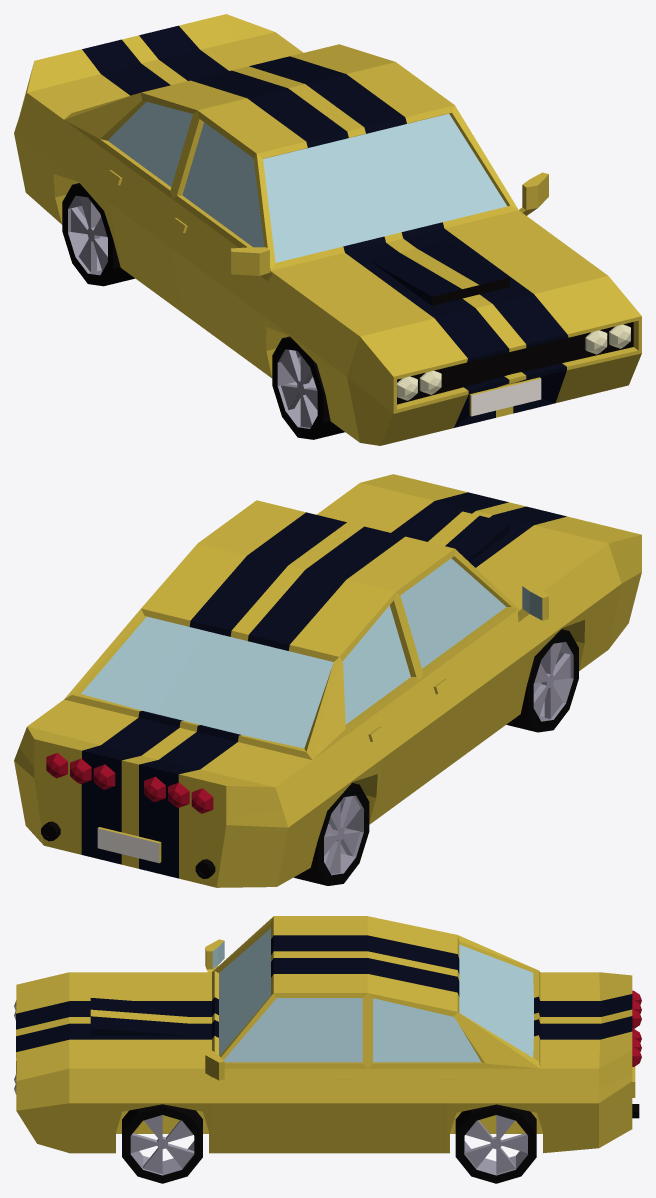
The model's file is car.glb.
The picture shows the model from 3 angles, top to bottom: view 1: azimuth 30°, elevation 25°; view 2: azimuth 150°, elevation 25°; view 3: azimuth 270°, elevation 25°; orthographic projection. The views are drawn at different scales.
Visible parts, largest first — view 1: car, wheel_fr, wheel_br; view 2: car, wheel_fr, wheel_br; view 3: car, wheel_fl, wheel_bl.
Boxes of the visible parts, x1=… form: car: x1=14, y1=14, x2=641, y2=445; wheel_fr: x1=272, y1=336, x2=344, y2=439; wheel_br: x1=62, y1=183, x2=134, y2=286; car: x1=14, y1=474, x2=641, y2=887; wheel_fr: x1=506, y1=629, x2=578, y2=732; wheel_br: x1=294, y1=783, x2=369, y2=885; car: x1=14, y1=916, x2=641, y2=1153; wheel_fl: x1=122, y1=1104, x2=202, y2=1183; wheel_bl: x1=455, y1=1104, x2=536, y2=1183.
Bounding box in the file's own units: 2.81 × 1.91 × 6.06.
